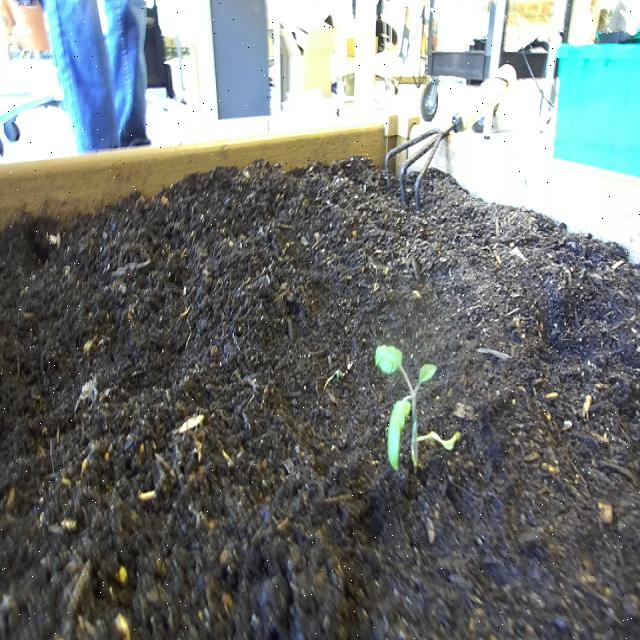Healthy: (372, 341, 462, 474)
